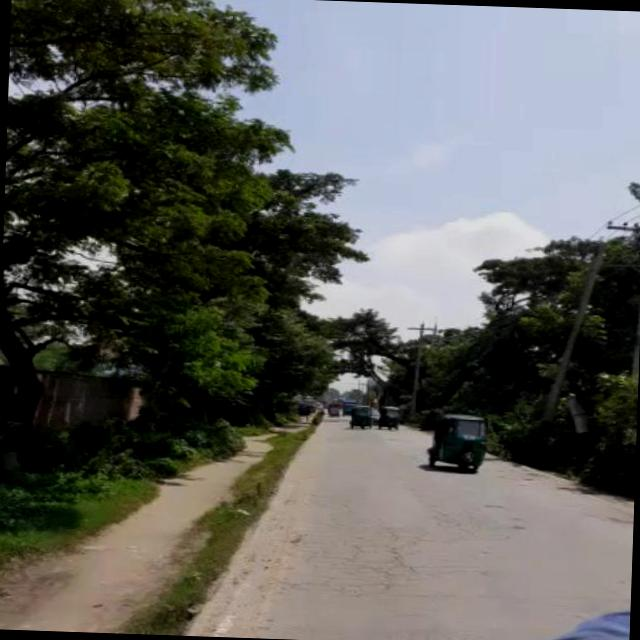motorcycle: (424, 408, 486, 471), (374, 402, 403, 426), (344, 401, 369, 425)
